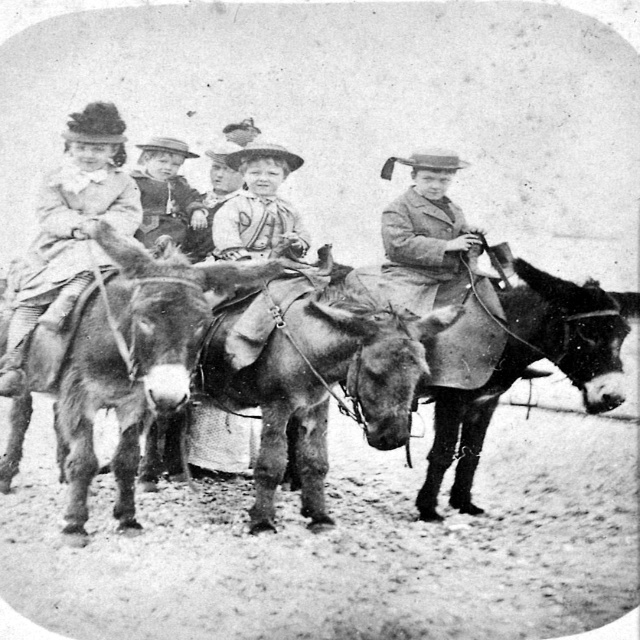Mule: (2, 219, 639, 548)
